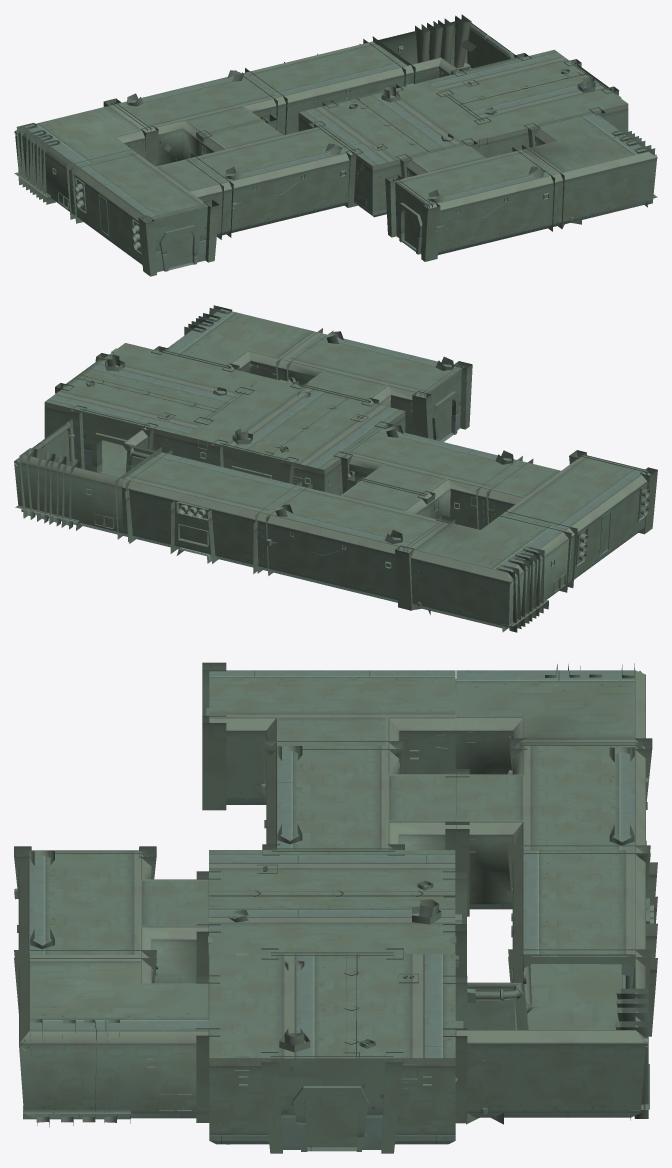
File: Combined_Mesh_root_scene__1_e4e4d5ea__zombies2_diffuse_09_d56e2e54_c1f257.obj
3 renders of one model, top to bottom at view 1: azimuth 30°, elevation 25°; view 2: azimuth 150°, elevation 25°; view 3: azimuth 270°, elevation 25°, orthographic. The views are drawn at different scales.
Size of the model in its own units: 77.02 by 9.64 by 52.3.
Materials: 158 (158 with a texture image).
